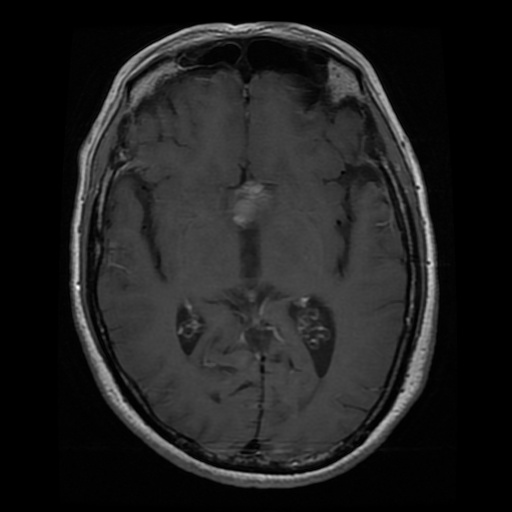pituitary: (231, 183, 271, 226)
